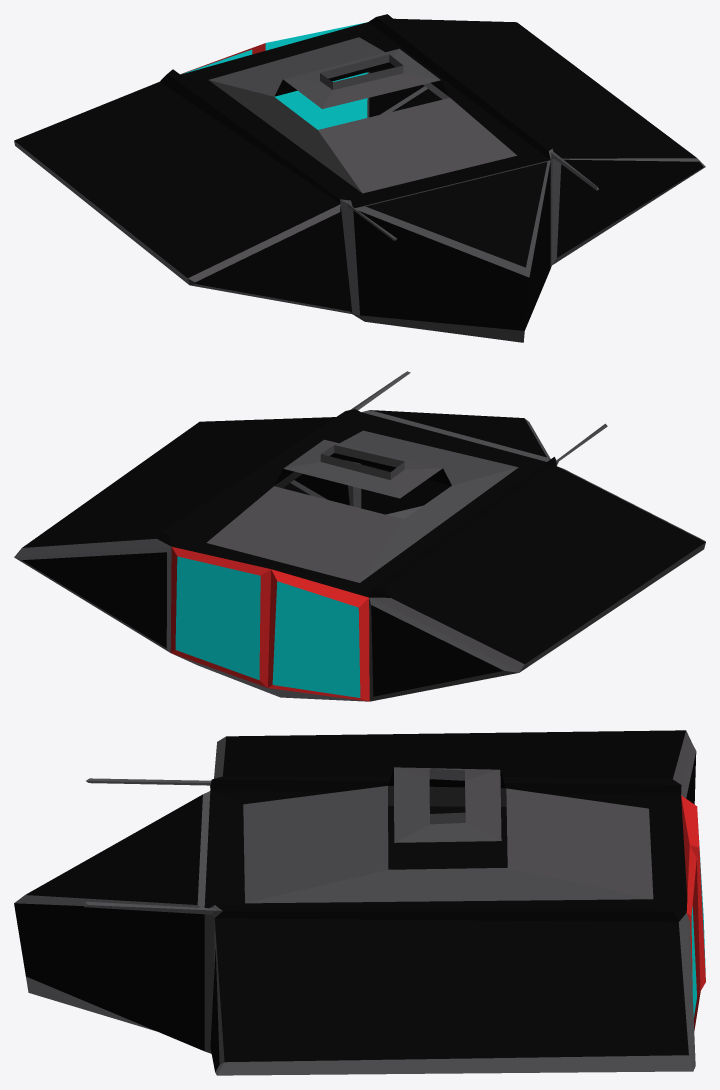
File: ship2.fbx
3 views of the same model, one above another, from view 1: azimuth 30°, elevation 25°; view 2: azimuth 150°, elevation 25°; view 3: azimuth 270°, elevation 25° (orthographic). The views are drawn at different scales.
Parts seen in each view (by area): view 1: Plane; view 2: Plane; view 3: Plane.
Part boxes in pixels (x1=…): Plane: x1=14, y1=14, x2=705, y2=342; Plane: x1=14, y1=371, x2=705, y2=701; Plane: x1=14, y1=730, x2=705, y2=1075.
Size of the model in its own units: 620 by 206 by 558.
